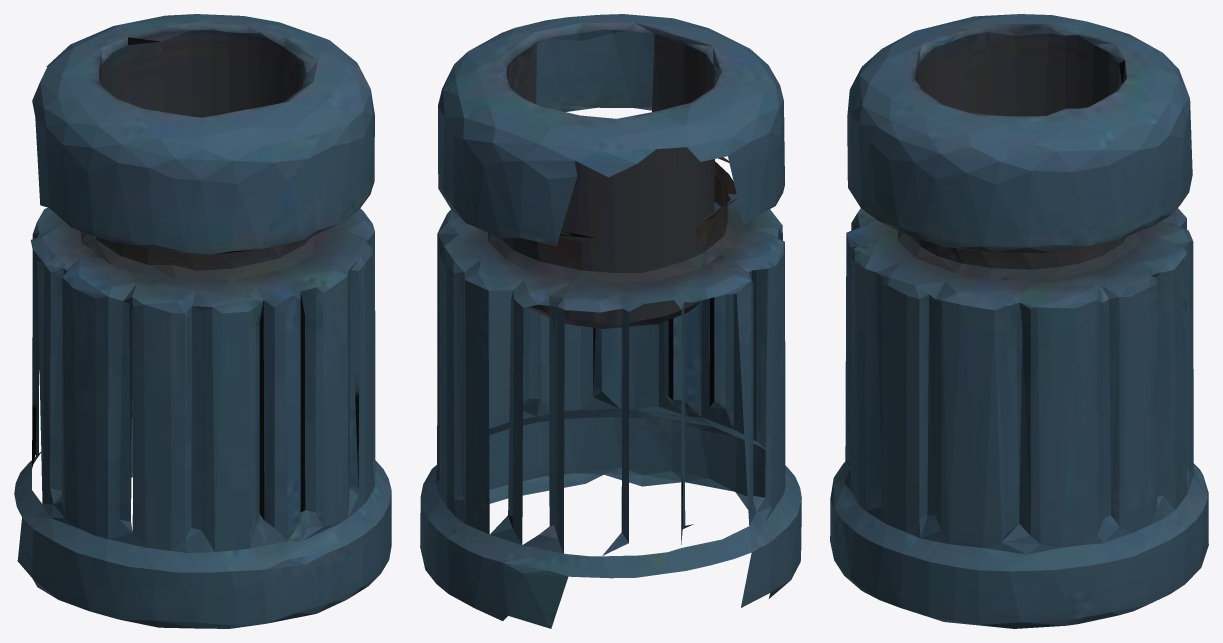
The model's file is M-10_08b_bin.glb.
The picture shows the model from 3 angles, left to right: view 1: azimuth 30°, elevation 25°; view 2: azimuth 150°, elevation 25°; view 3: azimuth 270°, elevation 25°; orthographic projection.
Parts seen in each view (by area): view 1: loA; view 2: loA; view 3: loA.
Part boxes in pixels (left/top/right/bottom): loA: left=14, top=14, right=391, bottom=628; loA: left=420, top=14, right=801, bottom=628; loA: left=830, top=14, right=1208, bottom=628.
Size of the model in its own units: 1.06 by 1.5 by 1.06.
Materials: 1 (1 with a texture image).
